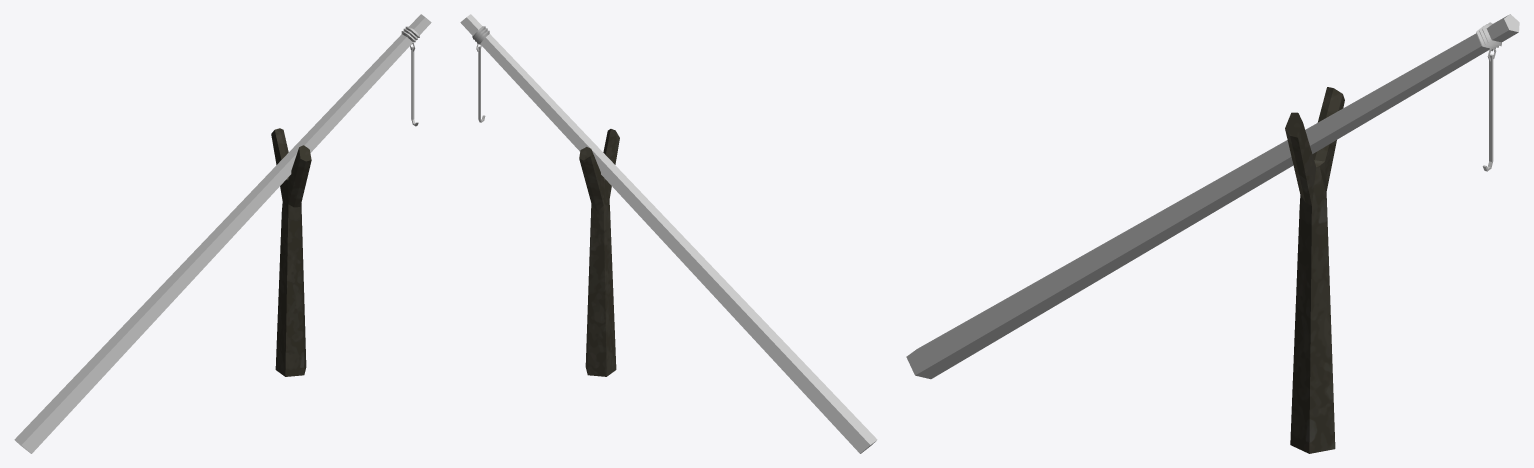
Rendered from Pot_Support.fbx.
The picture shows the model from 3 angles, left to right: view 1: azimuth 30°, elevation 25°; view 2: azimuth 150°, elevation 25°; view 3: azimuth 330°, elevation 25°; orthographic projection. The views are drawn at different scales.
Visible parts, largest first — view 1: _Suppor_Pot; view 2: _Suppor_Pot; view 3: _Suppor_Pot.
Part boxes in pixels (x1,y1,x2,y2): _Suppor_Pot: (14, 14, 431, 453); _Suppor_Pot: (460, 14, 877, 453); _Suppor_Pot: (906, 14, 1519, 453).
Size of the model in its own units: 249 by 198 by 33.65.
